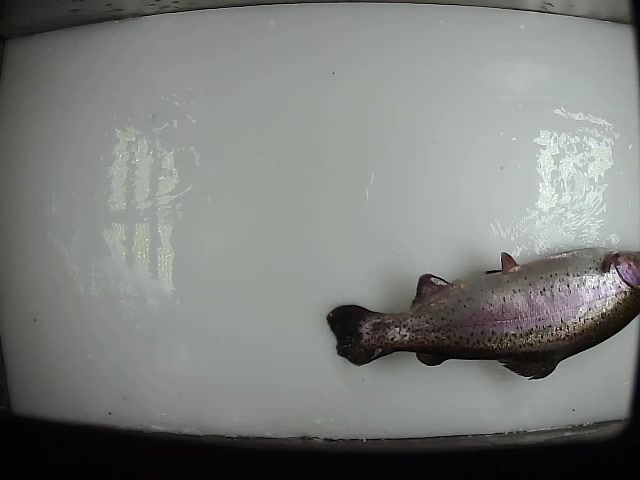fish: (323, 244, 640, 380)
